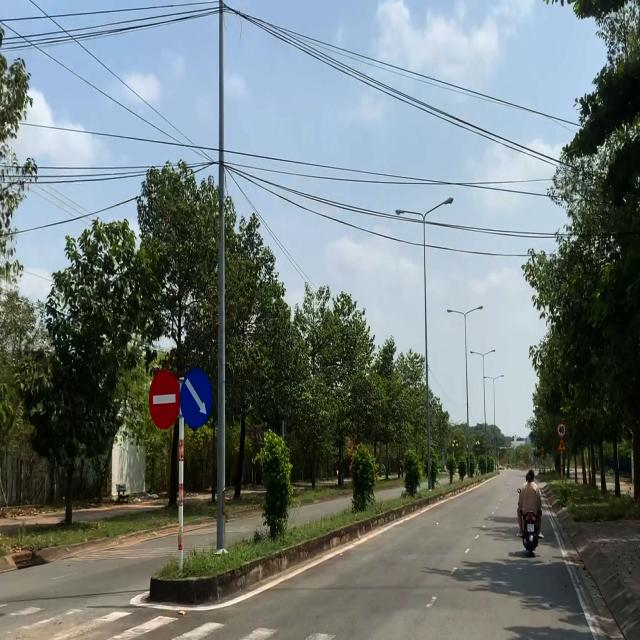Cam nguoc chieu: (148, 367, 180, 431)
Hieu lenh: (180, 365, 213, 428)
